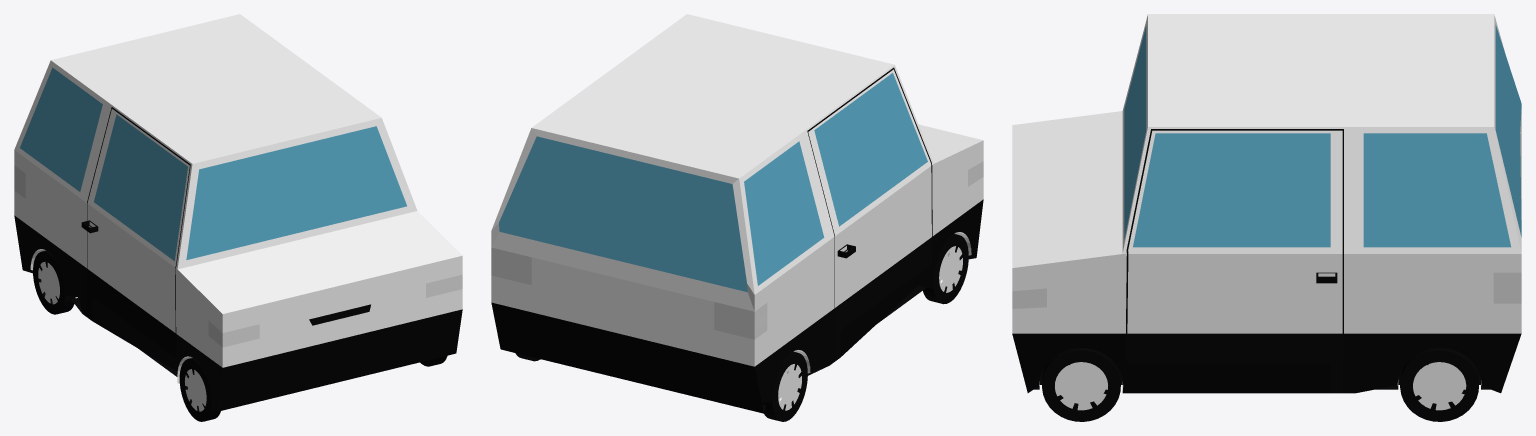
Rendered from NPCcar3_white.fbx.
3 views of the same model, side by side, from view 1: azimuth 30°, elevation 25°; view 2: azimuth 150°, elevation 25°; view 3: azimuth 270°, elevation 25° (orthographic). The views are drawn at different scales.
Parts seen in each view (by area): view 1: car03_white; view 2: car03_white; view 3: car03_white.
Part boxes in pixels (bbox=[...]): car03_white: bbox=[14, 14, 462, 421]; car03_white: bbox=[491, 14, 983, 421]; car03_white: bbox=[1012, 14, 1521, 421].
Bounding box in the file's own units: 51.11 × 43.83 × 72.08.
